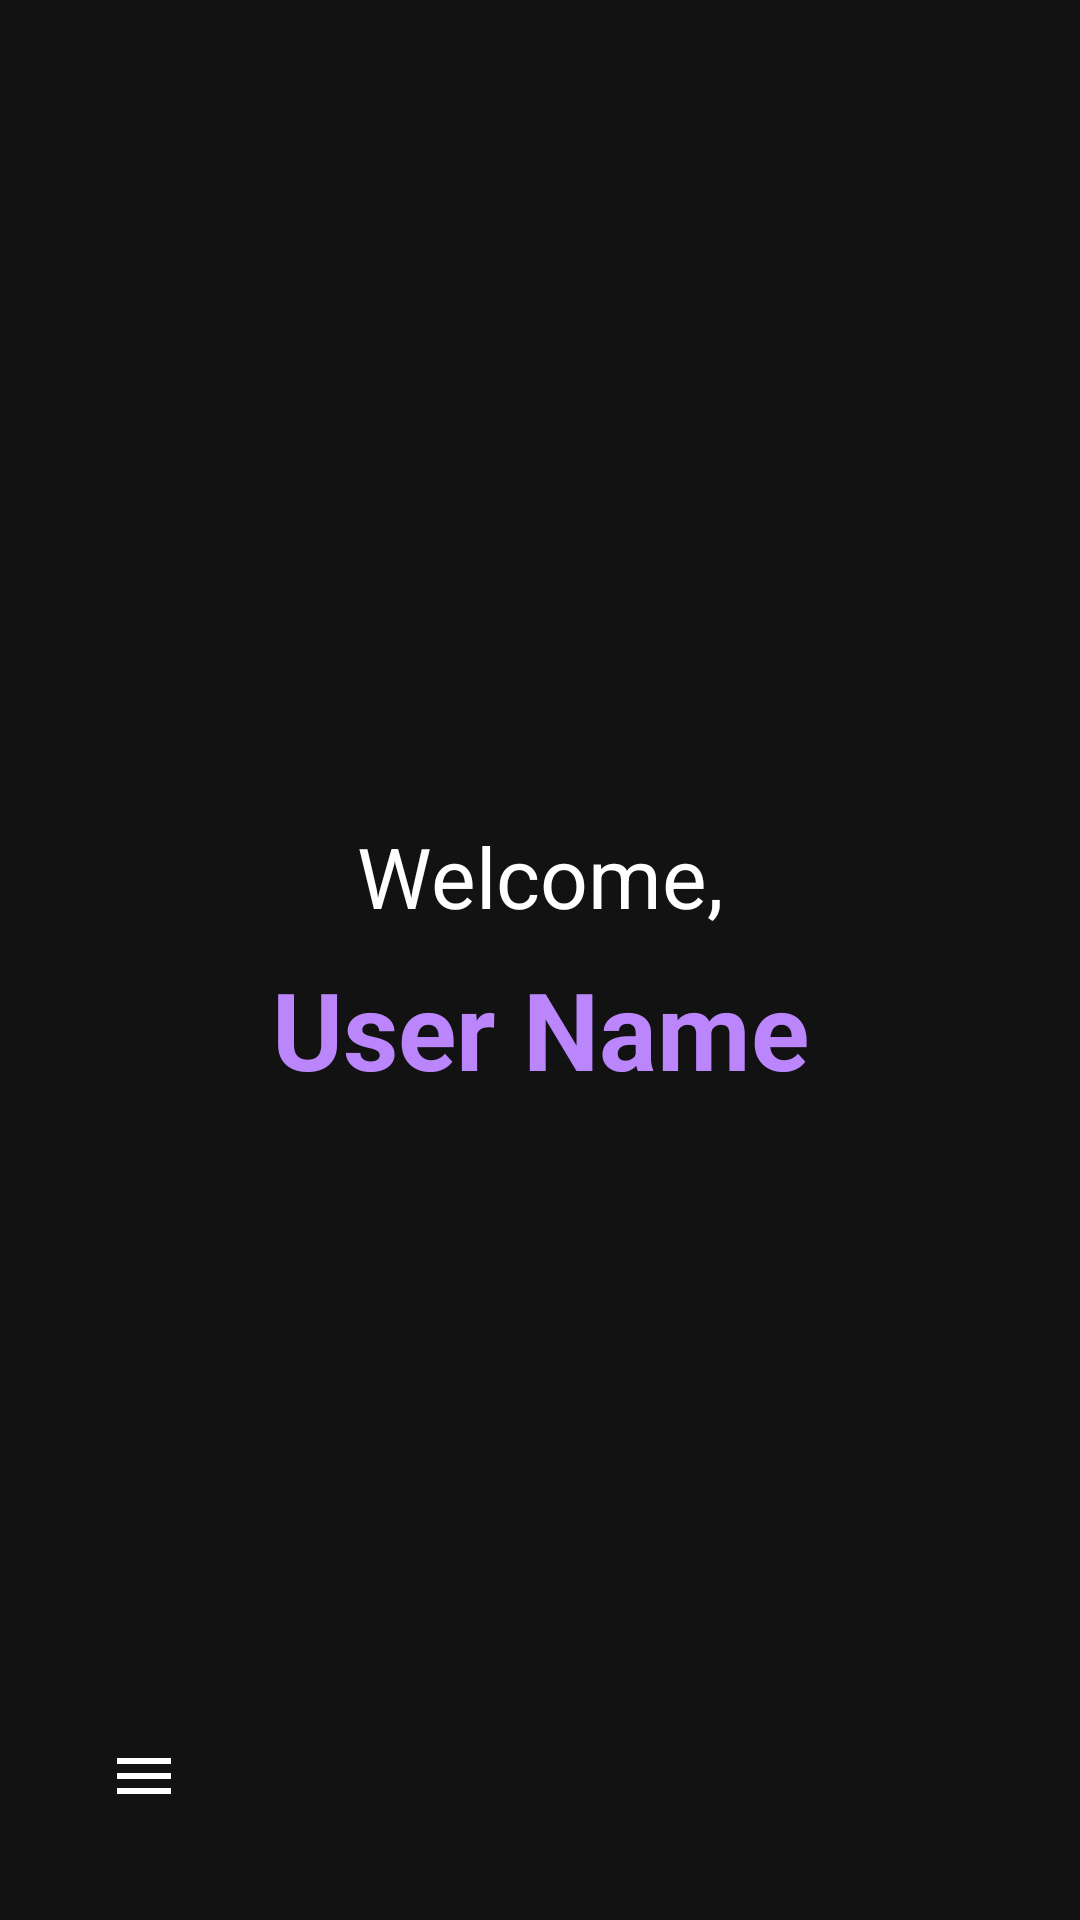

Screen size 1080×1920. Icon name, then its center in pixels as point (x, y):
Open Menu: point (144, 1776)
